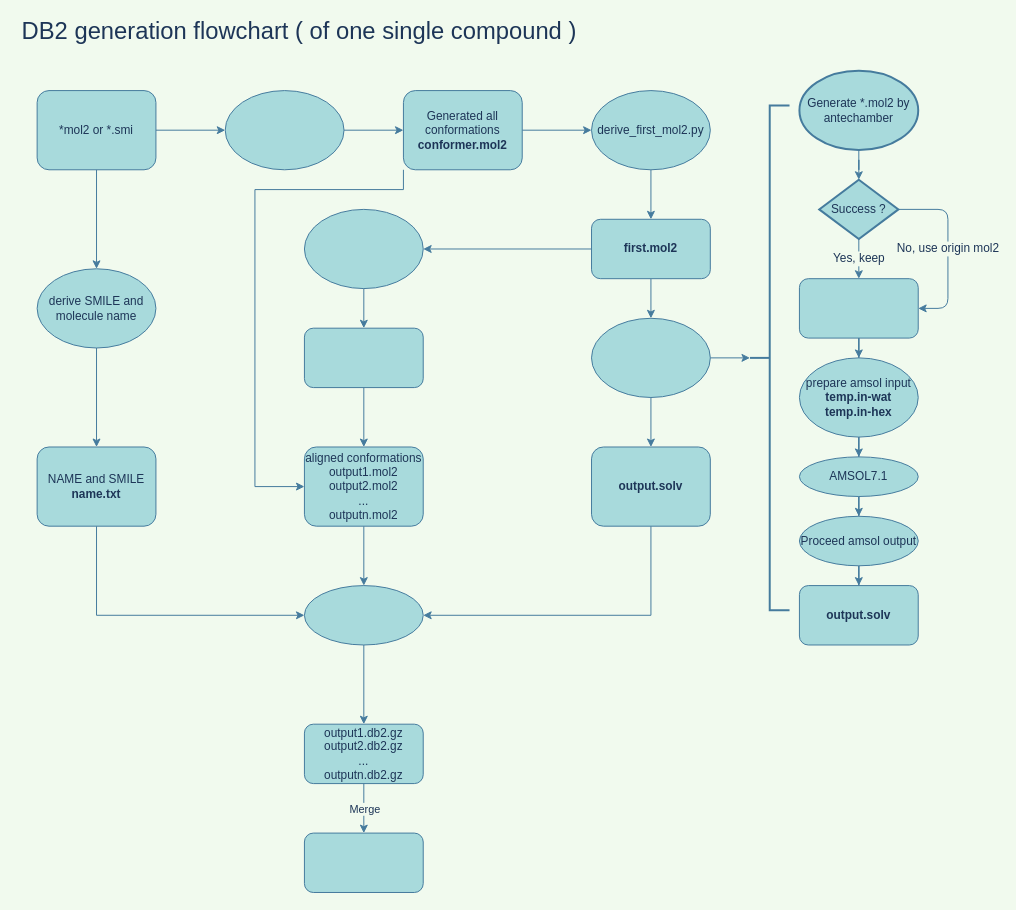
The diagram is 1016 pixels wide and 910 high, and some of its shapes have lost their labels. The centre of each missing label's shape, as x and y in pixels:
"calc_solvation.sh" belongs at (x=650, y=357).
"compound fragments" belongs at (x=363, y=357).
"Conformator" belongs at (x=284, y=130).
"decompose compound" belongs at (x=363, y=248).
"mol2db2.py" belongs at (x=363, y=615).
"output.db2.gz" belongs at (x=363, y=862).
"temperate *.mol2" belongs at (x=858, y=308).
